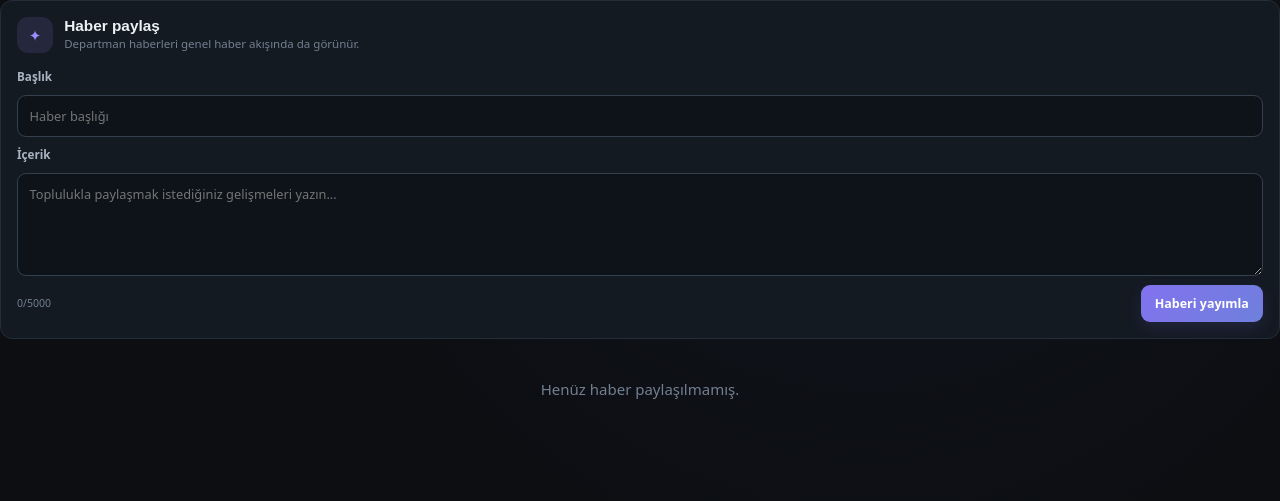
Test case: shows a useful error when publishing fails
The width and height of the screenshot is (1280, 501).
Type "Atölye" into the field labelled "Başlık" at (640, 116), box [17,95,1263,137]
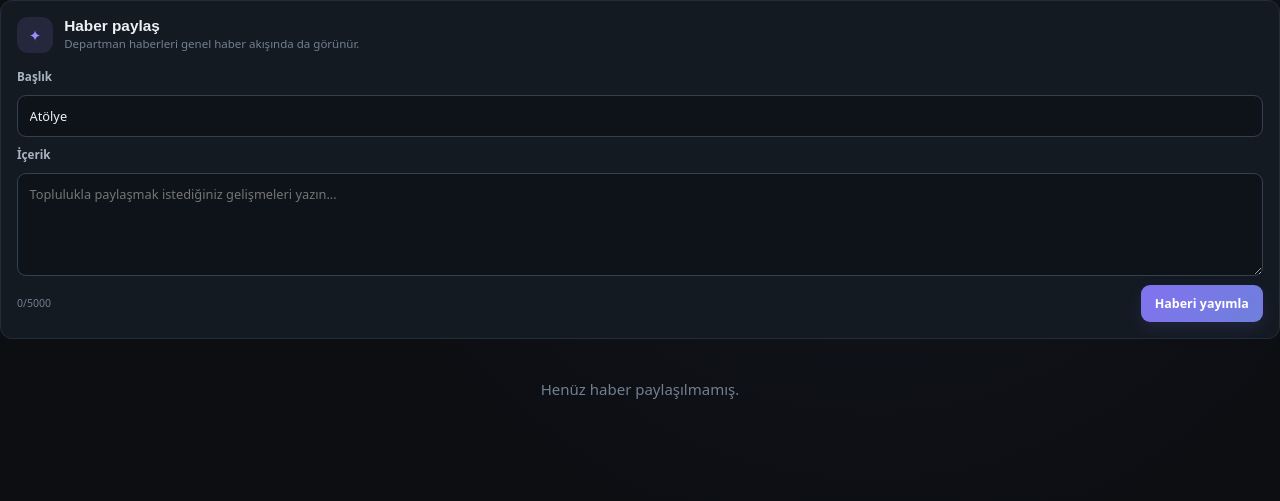
Type "Yeni atölyemiz yakında." into the text box labelled "İçerik" at (640, 225), box [17,173,1263,276]
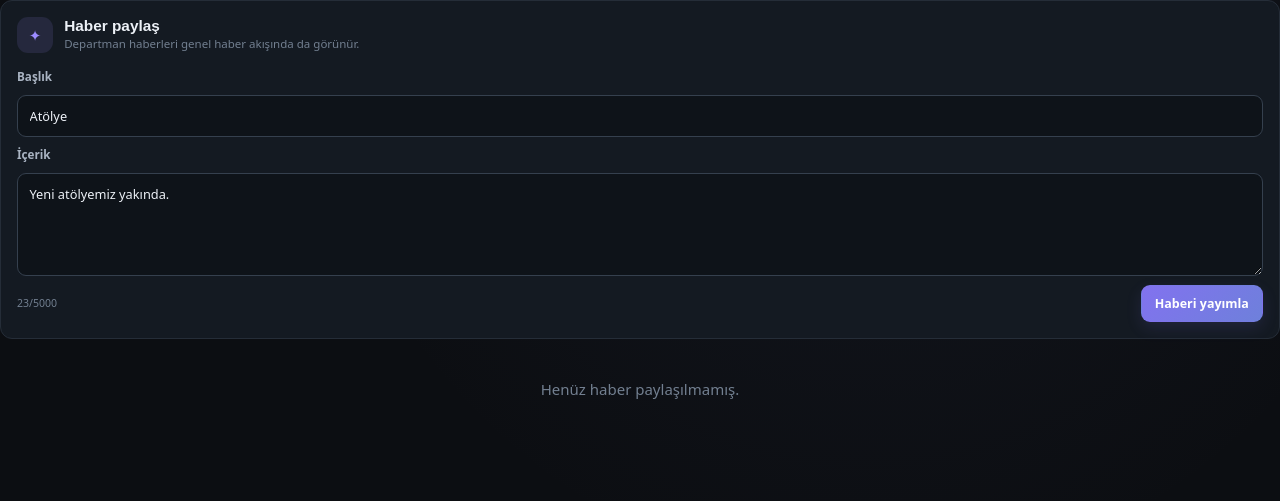
Click the button "Haberi yayımla" at (1202, 304), box [1141,285,1263,322]
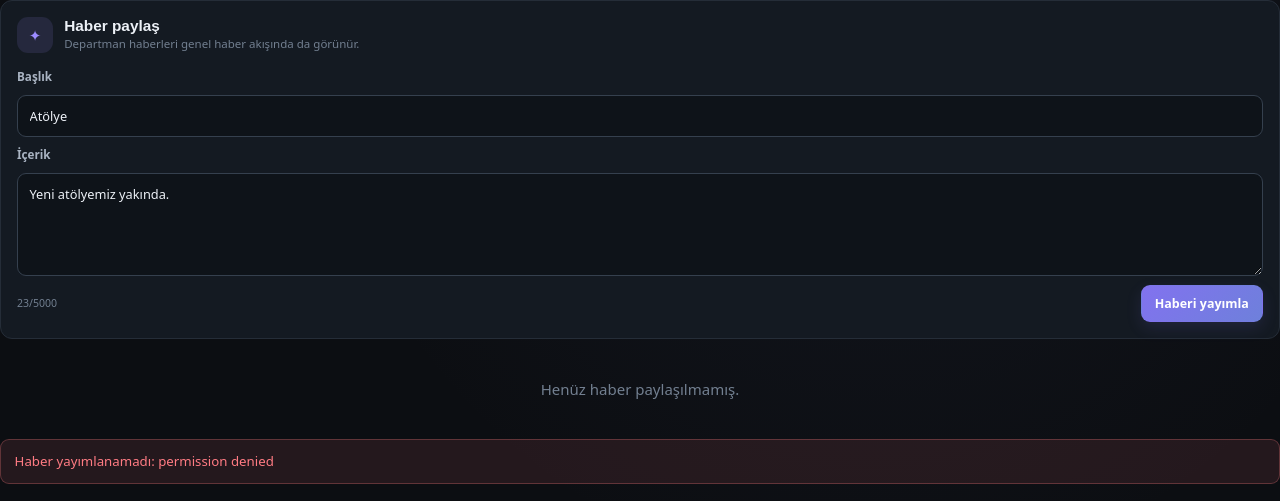
Now the message reads "Haber yayımlanamadı: permission denied", box [15,452,274,470]
